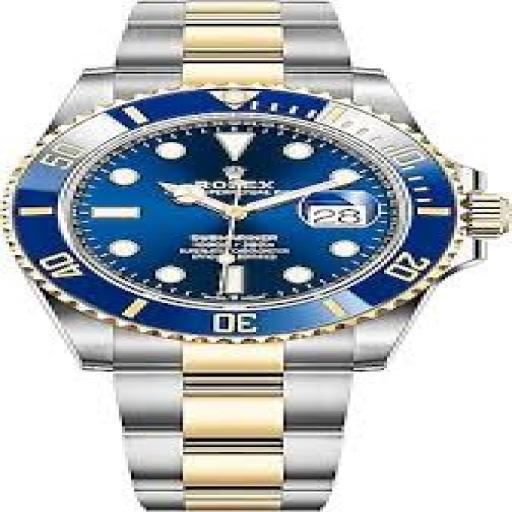KolSaati: (3, 1, 509, 512)
